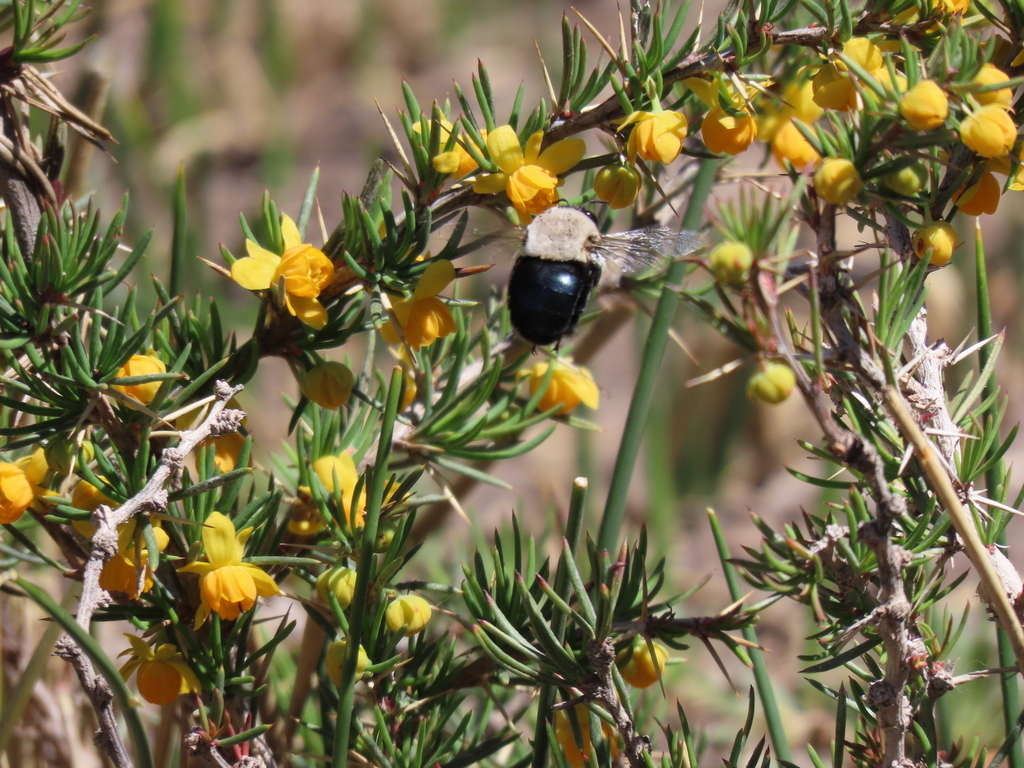not_bumblebee: (433, 199, 708, 358)
